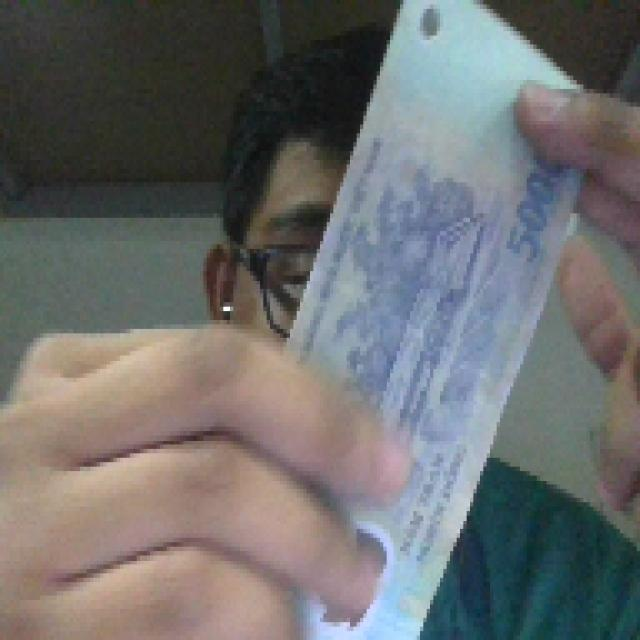500 000 VND: (277, 0, 593, 636)
